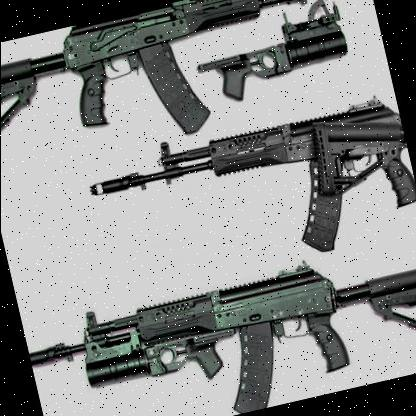rifle: (78, 94, 416, 315), (0, 0, 390, 186), (23, 237, 416, 416)
